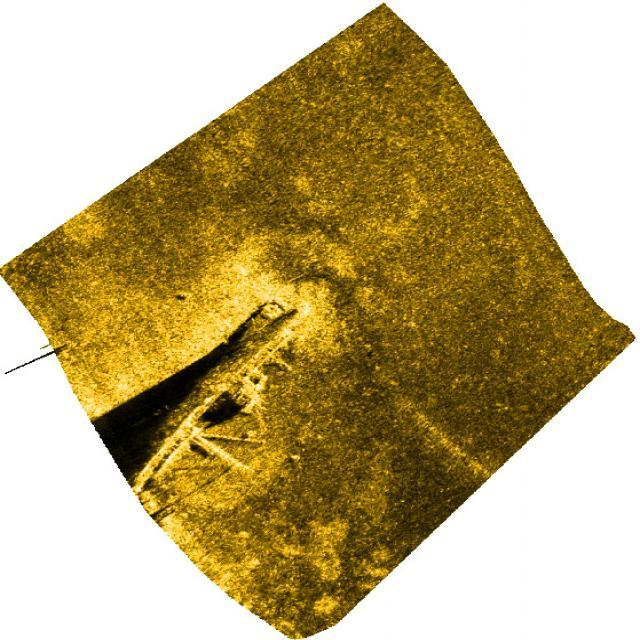shipwreck: (130, 284, 310, 508)
